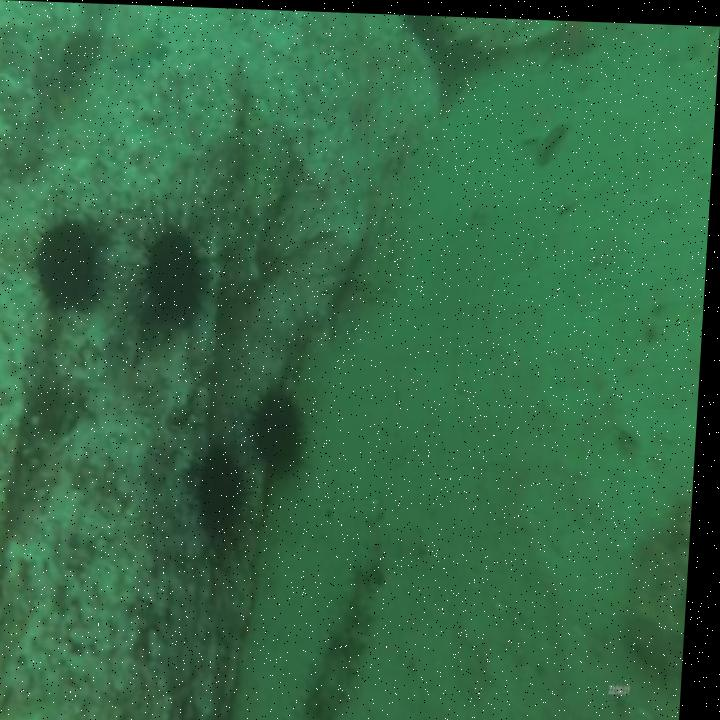echinus: (24, 200, 112, 322), (135, 211, 214, 335), (246, 376, 320, 481), (194, 436, 260, 552)
holothurian: (284, 544, 394, 720), (625, 478, 699, 694)
starfish: (517, 90, 579, 161), (536, 16, 598, 65)
